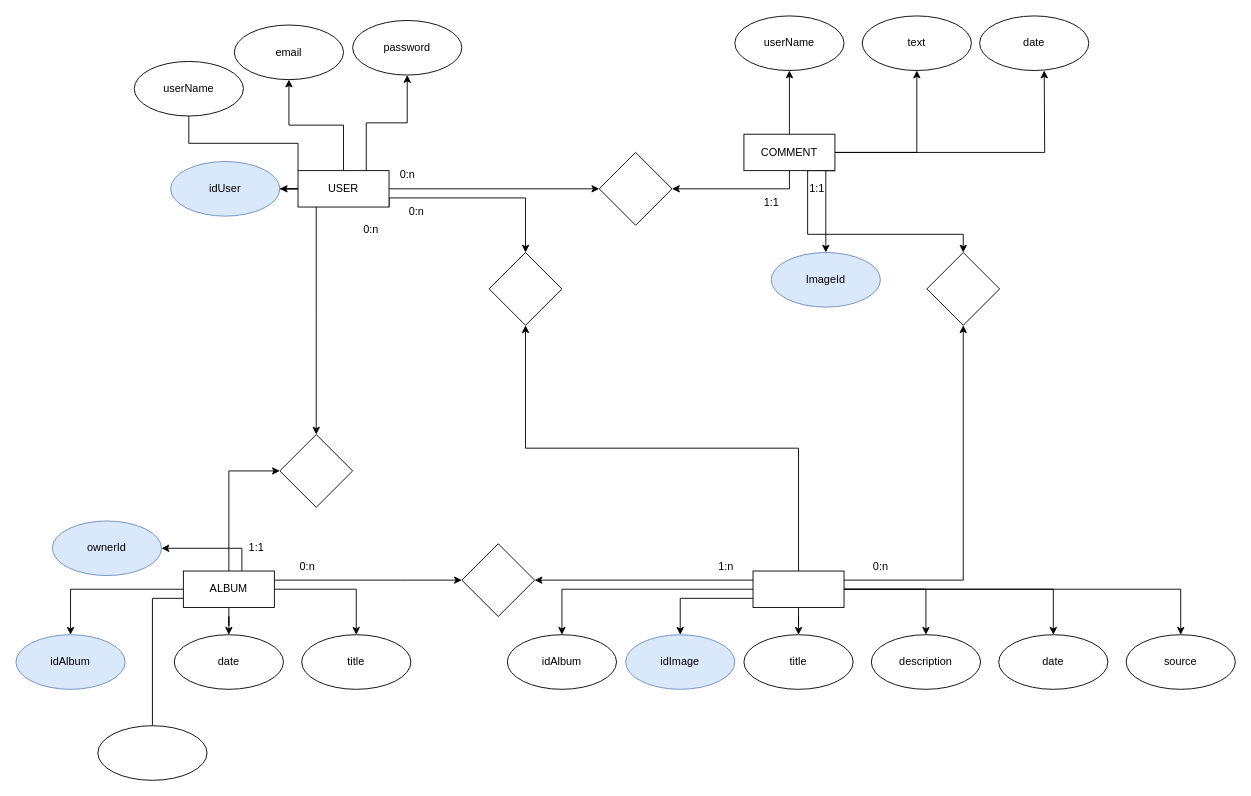
Some shapes in this 1251 by 796 pixel diagram are drawn without their labels. The centre of each missing label's shape, as x and y in pixels:
CONTAINS: the point at 498,580
CREATES: the point at 316,470
HAS: the point at 963,288
IMAGE: the point at 798,588
INSERTS: the point at 525,288
order: the point at 152,752
UPLOADS: the point at 635,188
